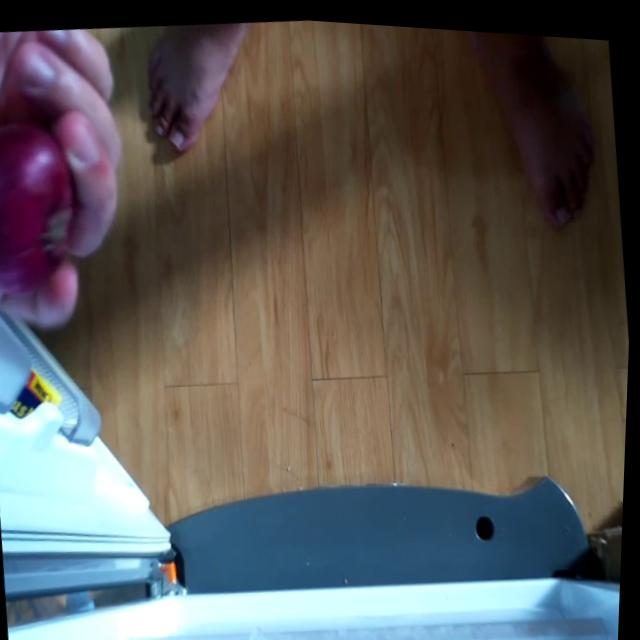onion: (0, 109, 93, 294)
